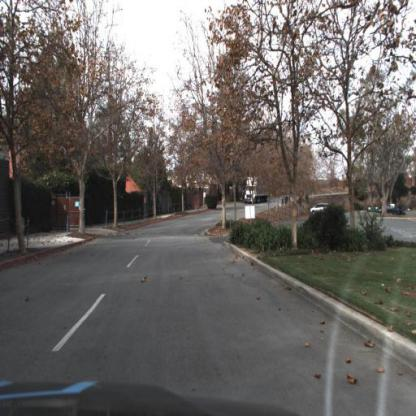car: (309, 203, 330, 216)
truck: (244, 177, 274, 205)
